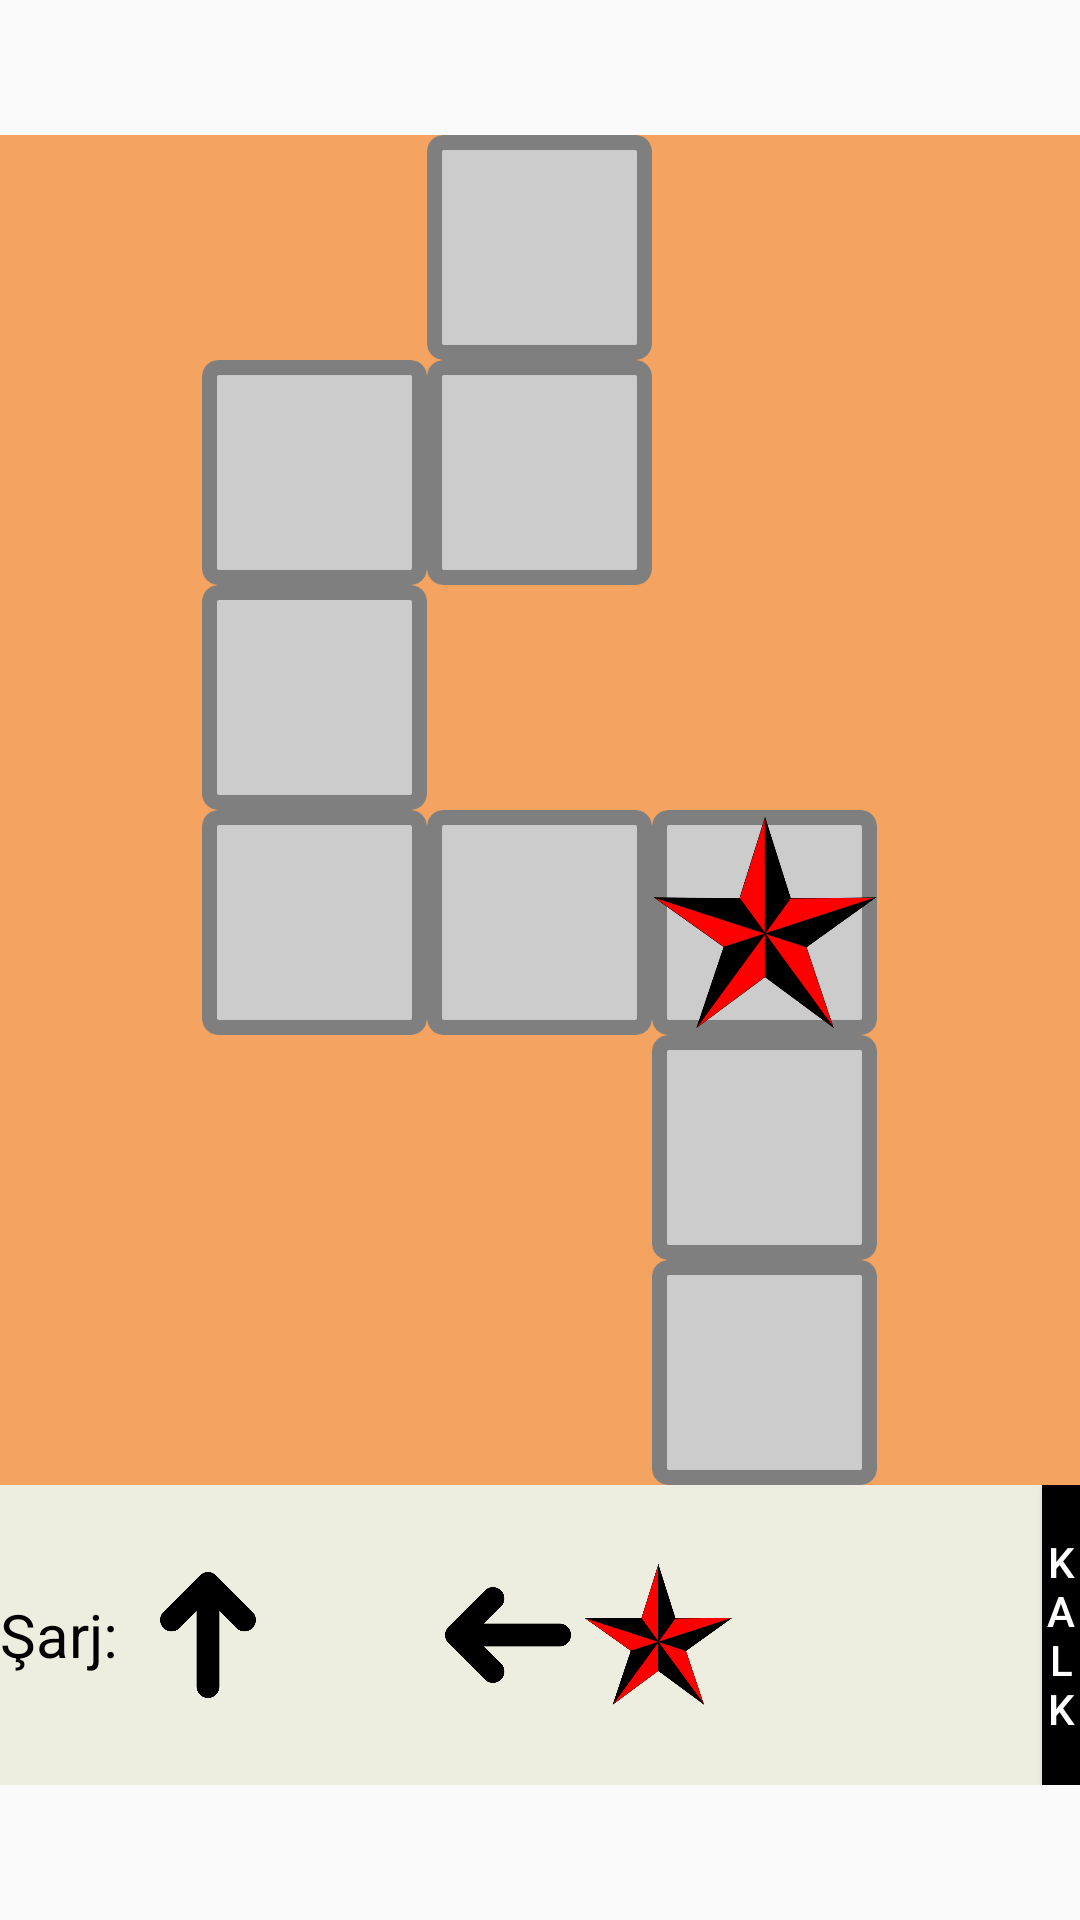

Where to tap for icons on this 1080 × 1920 app screen, as [x,y]:
sol: [508,1635]
star: [764,922], [658,1634]
yukari: [208,1635]
